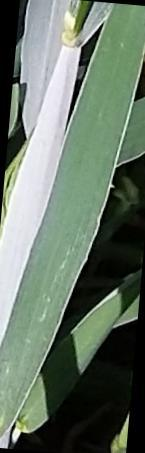Wheat: (33, 6, 140, 255), (0, 248, 88, 434)
